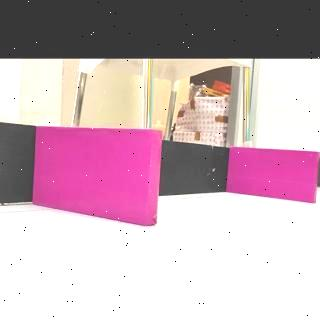xparking: (46, 132, 159, 216), (237, 150, 316, 198)
